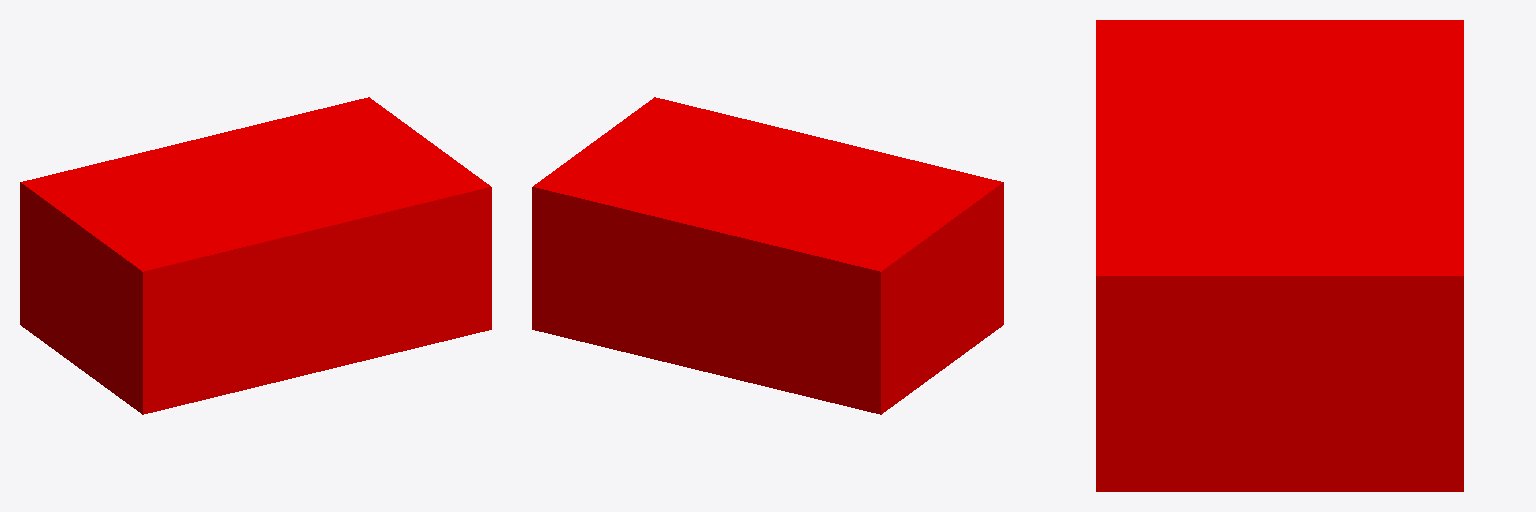
URDF robot description (small_box):
<?xml version="1.0"?>
<robot name="small_box">
    <link name="base_link">
        <visual name="visual">
            <geometry name="geometry">
                <box size="0.255 0.155 0.100"/>
            </geometry>
            <material name="red">
                <color rgba="1.0 0.0 0.0 1.0"/>
            </material>
        </visual>
    </link>
</robot>

--- What the picture shows (computed from the rendered views, not written in the file) ---
3 views of the same robot in one strip: view 1: azimuth 30°, elevation 25°; view 2: azimuth 150°, elevation 25°; view 3: azimuth 270°, elevation 25° (orthographic).
Model small_box with 1 links and 0 joints (none), rooted at base_link, posed all joints at 0.
Links seen in each view (by area): view 1: base_link; view 2: base_link; view 3: base_link.
Link boxes in pixels (x1,y1,x2,y2): base_link: (20,97,491,414); base_link: (532,97,1003,414); base_link: (1096,20,1463,491).
Size in the robot's own frame: 0.255 by 0.155 by 0.1 metres.
Geometry: primitives only (box / cylinder / sphere), no mesh files.